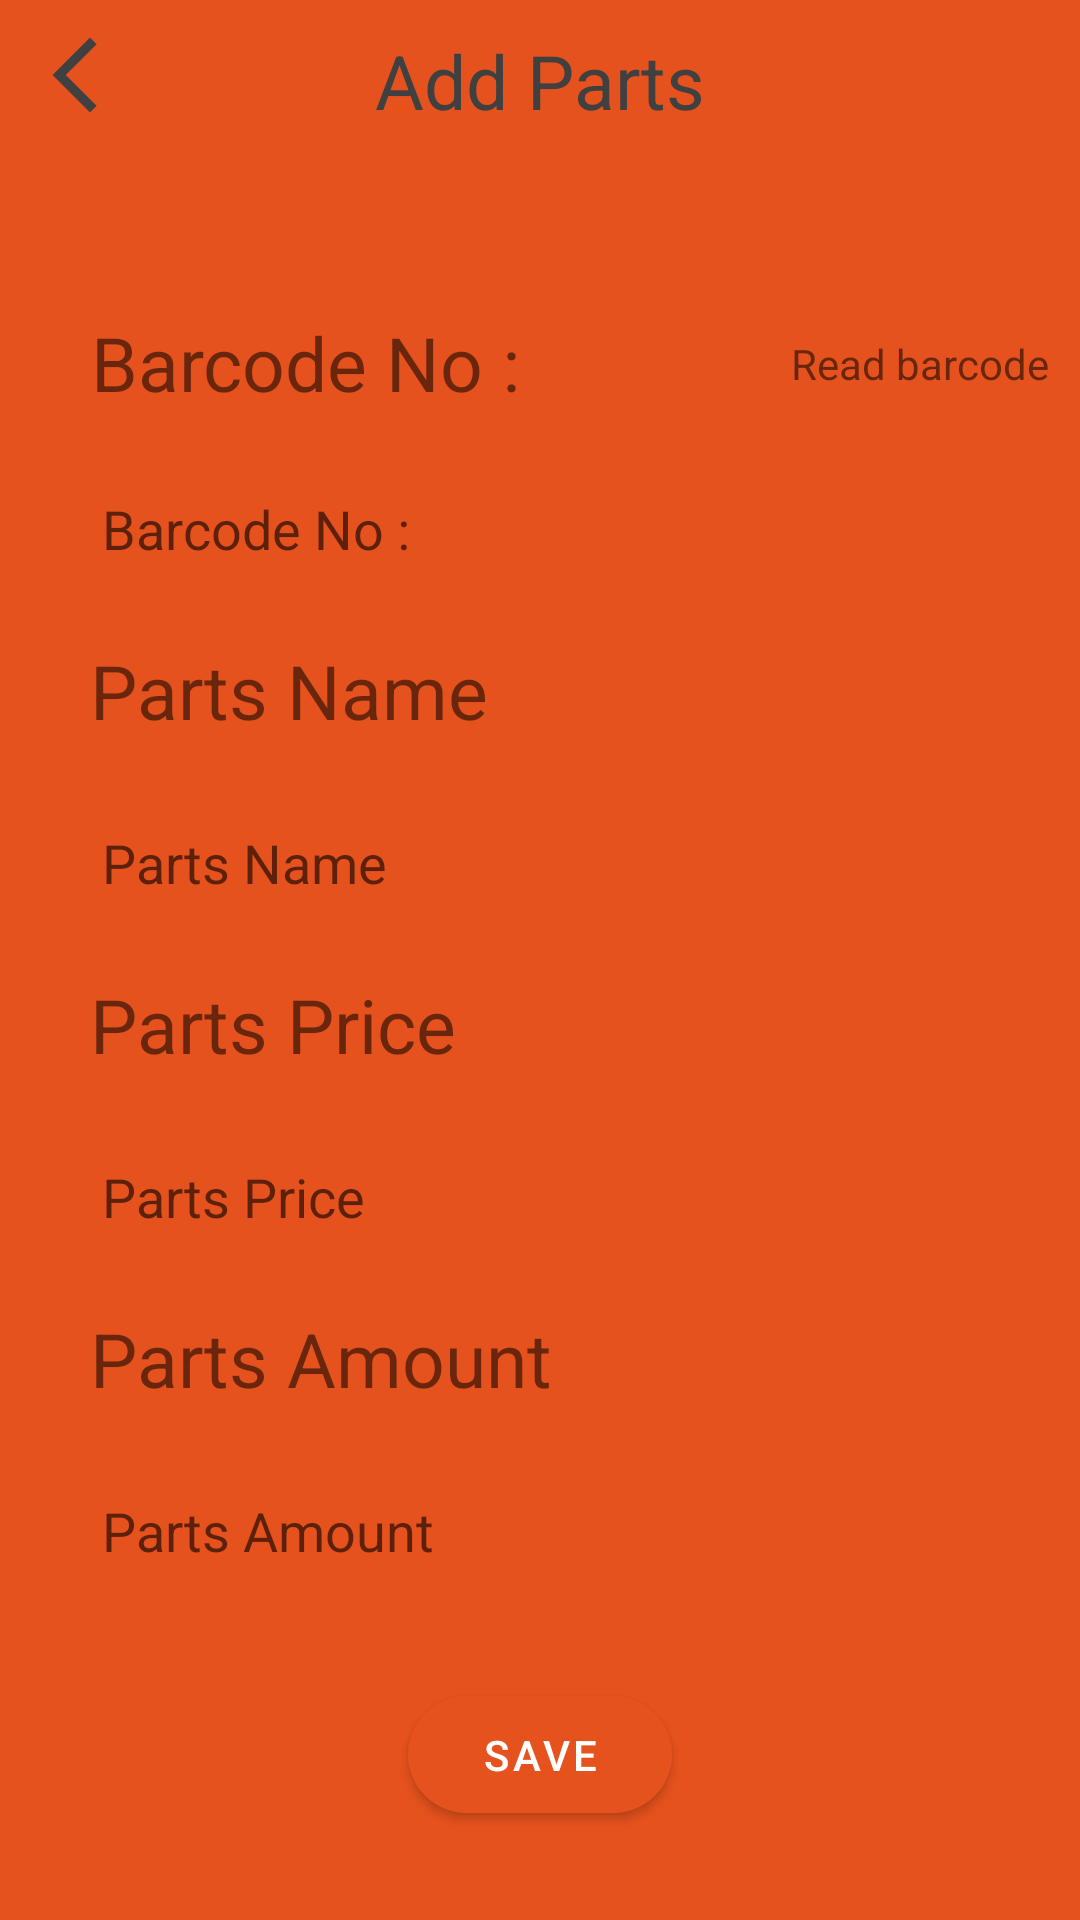

Screen size 1080 x 1920. Icon name, then its center in pixels as (x,y):
back: (75,75)
